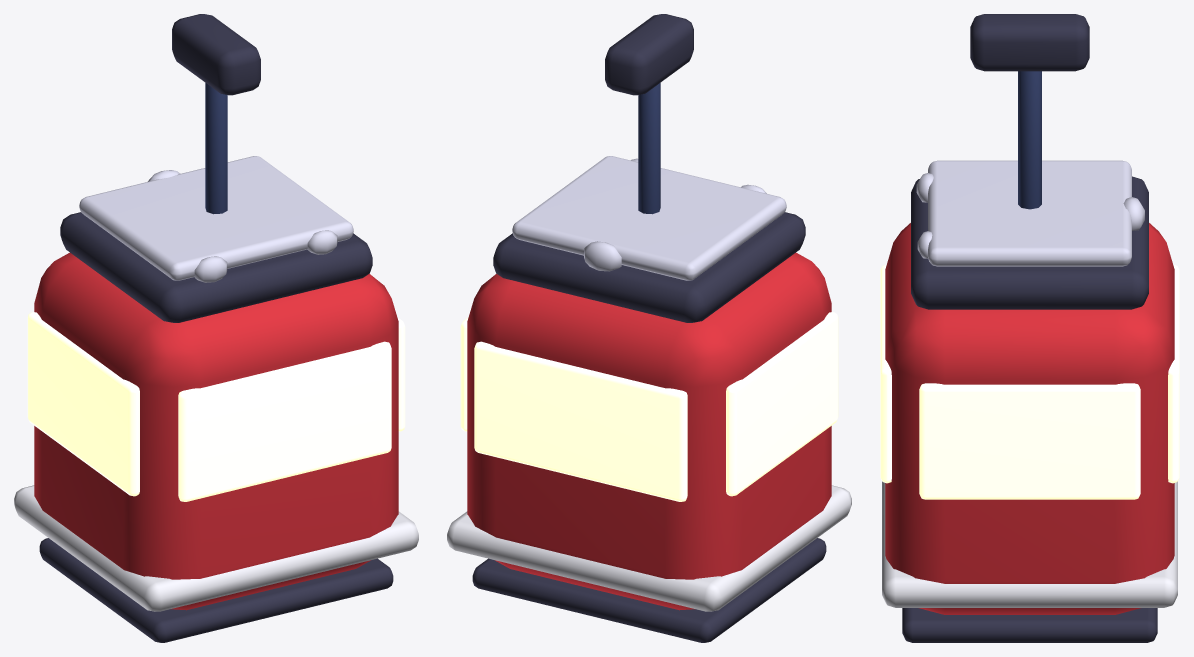
File: frost_gondola_cabin.glb
3 renders of one model, left to right at view 1: azimuth 30°, elevation 25°; view 2: azimuth 150°, elevation 25°; view 3: azimuth 270°, elevation 25°, orthographic. The views are drawn at different scales.
Parts seen in each view (by area): view 1: GondolaCabin; view 2: GondolaCabin; view 3: GondolaCabin.
Boxes of the visible parts, left/top/right/bottom form: GondolaCabin: left=14, top=14, right=418, bottom=642; GondolaCabin: left=447, top=14, right=851, bottom=642; GondolaCabin: left=880, top=14, right=1179, bottom=642.
Size of the model in its own units: 1.96 by 3.68 by 1.76.
